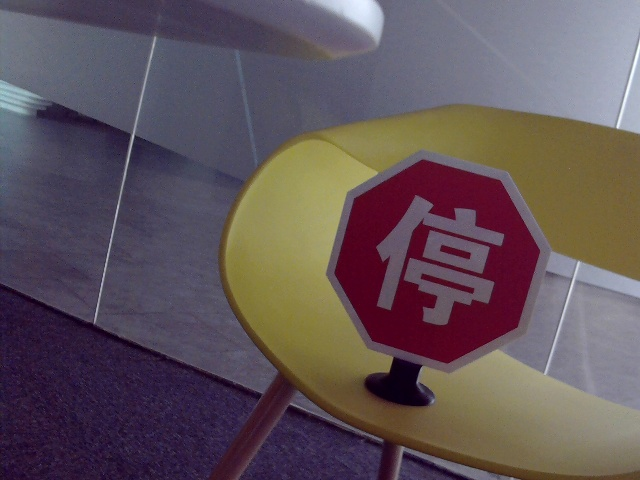stop: (378, 187, 499, 328)
